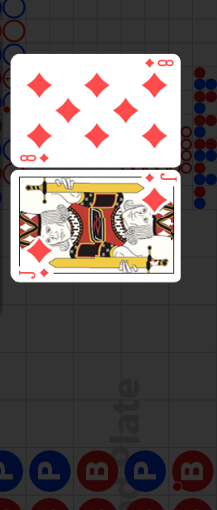8D: (19, 152, 51, 164)
JD: (17, 268, 50, 281)
